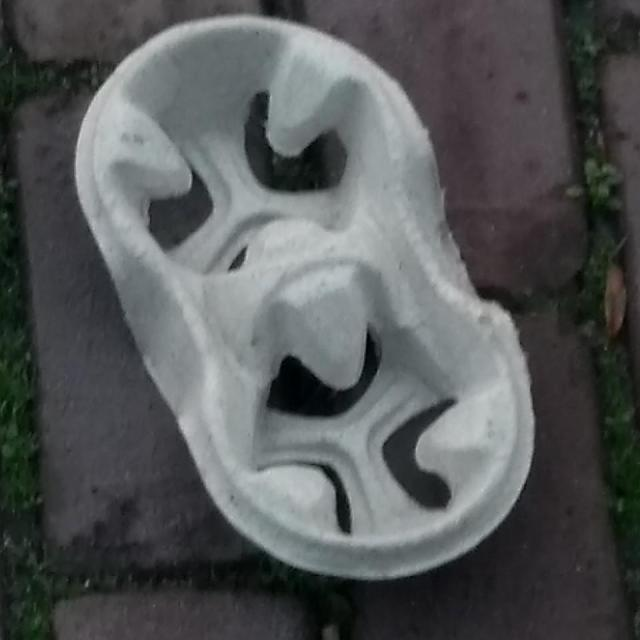Paper: (64, 9, 538, 587)
